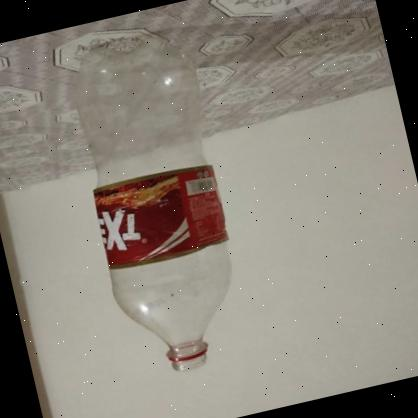bottle: (53, 13, 262, 391)
label: (84, 157, 236, 276)
